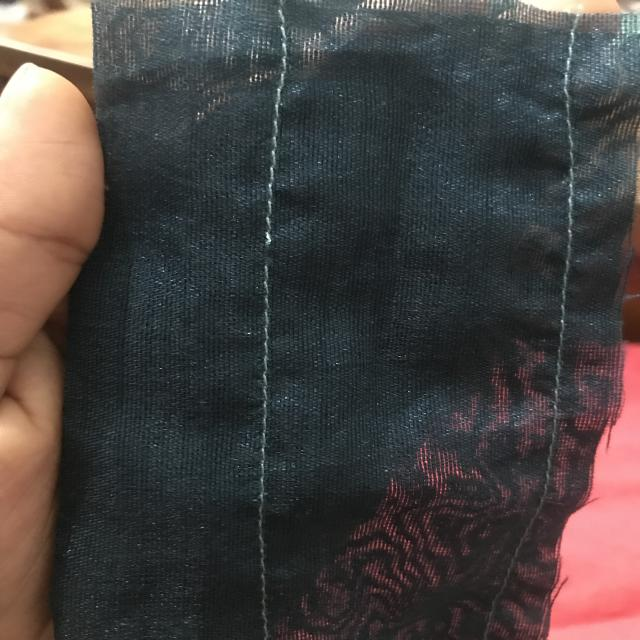broken: (251, 226, 282, 279)
good: (250, 319, 271, 526), (264, 106, 290, 214)
